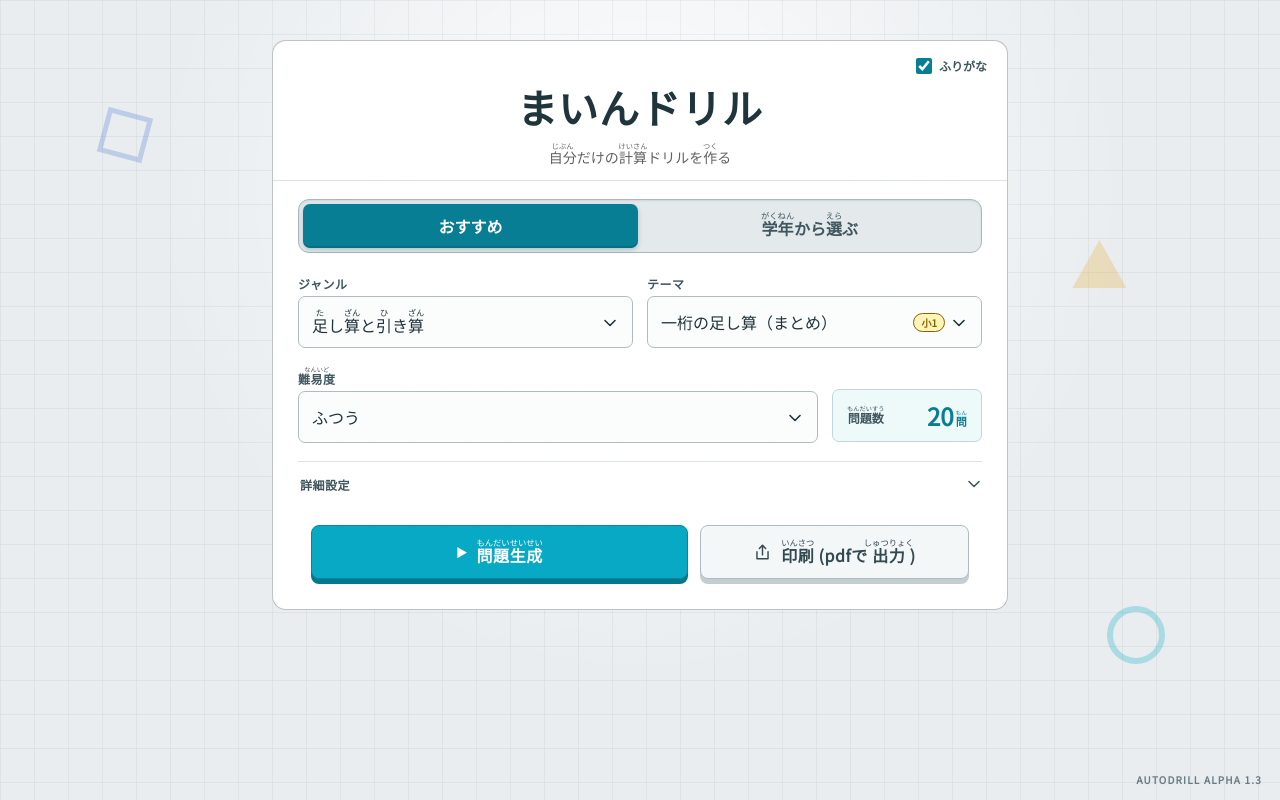
it: AutoDrillApp › keeps Seed in collapsed details and exposes the revised q1 chrome
The image size is (1280, 800).
Expected: the element with class "advanced-settings" is shown, x1=298 y1=461 x2=982 y2=506
Expected: the text "詳細設定" is shown, x1=300 y1=476 x2=350 y2=492
Click the heading "詳細設定".
click(325, 484)  # box x1=300 y1=476 x2=980 y2=492
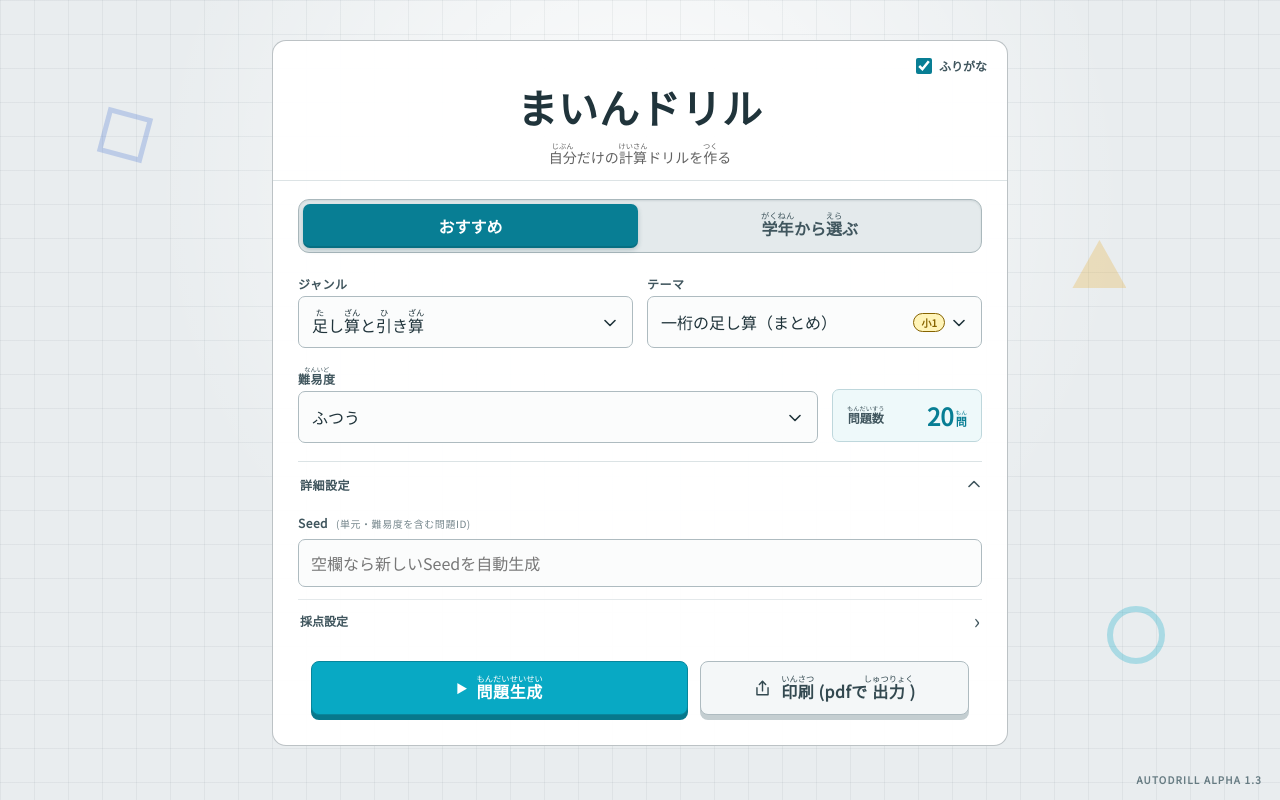
Result: the field labelled "Seed" is shown at x1=298 y1=539 x2=982 y2=587
